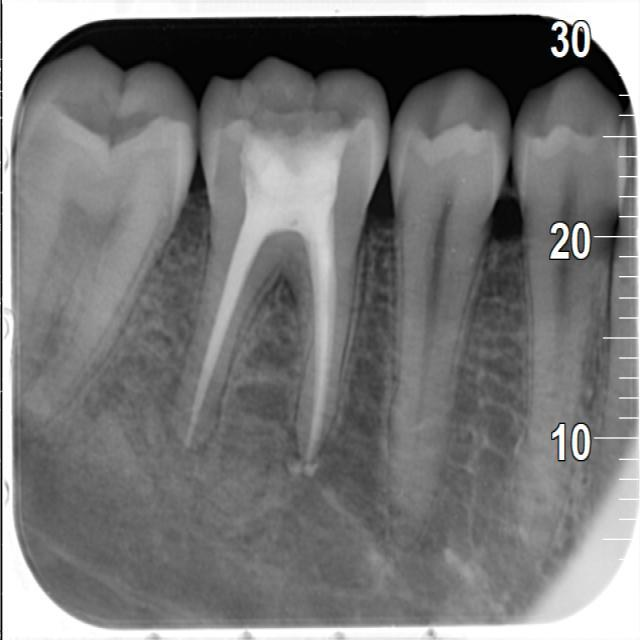individual-tooth-8tto: (168, 66, 392, 457), (386, 77, 510, 511)
